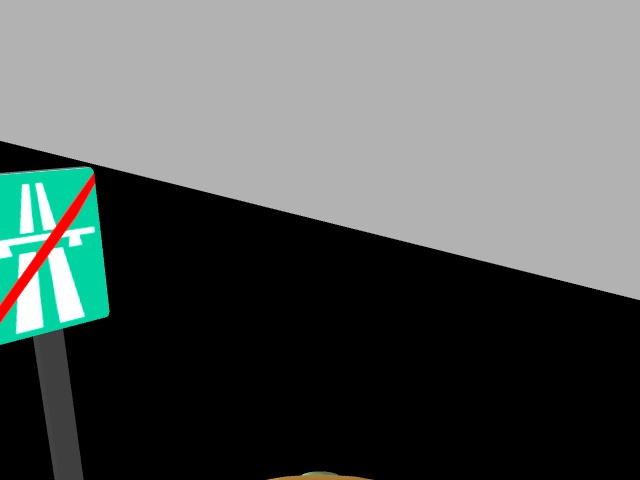HighwayExit: (0, 163, 101, 346)
